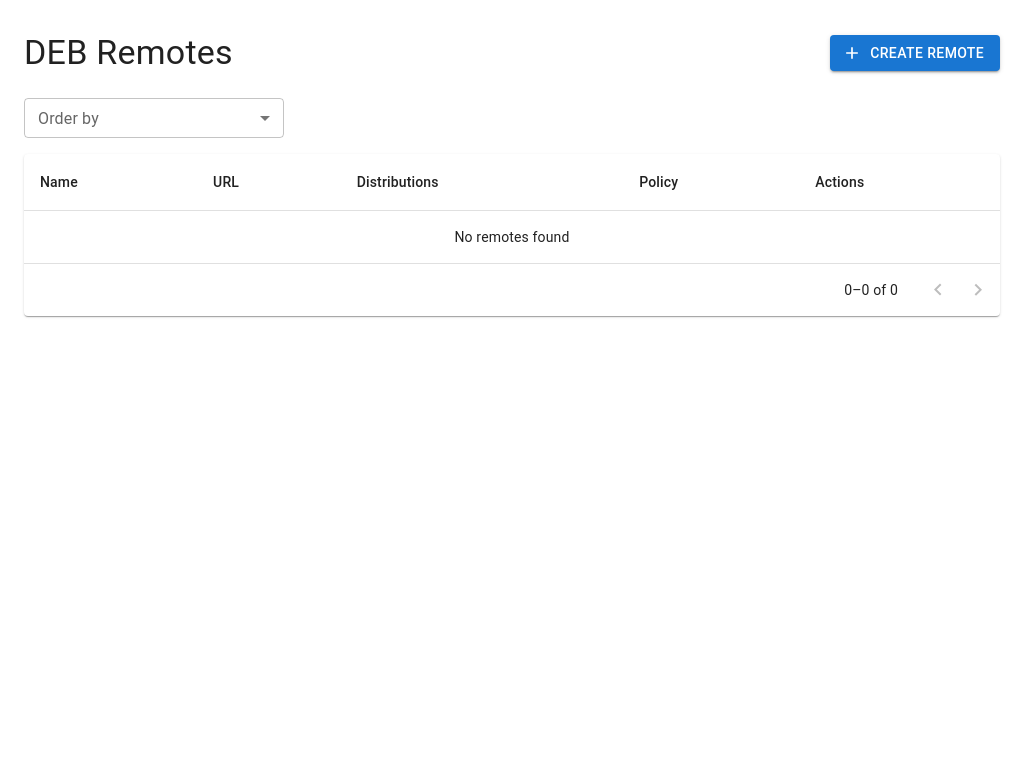
DEB plugin via generic components › requires the distributions field when creating a remote
Click the button "Create Remote".
click(915, 53)  # box left=830, top=35, right=1000, bottom=71
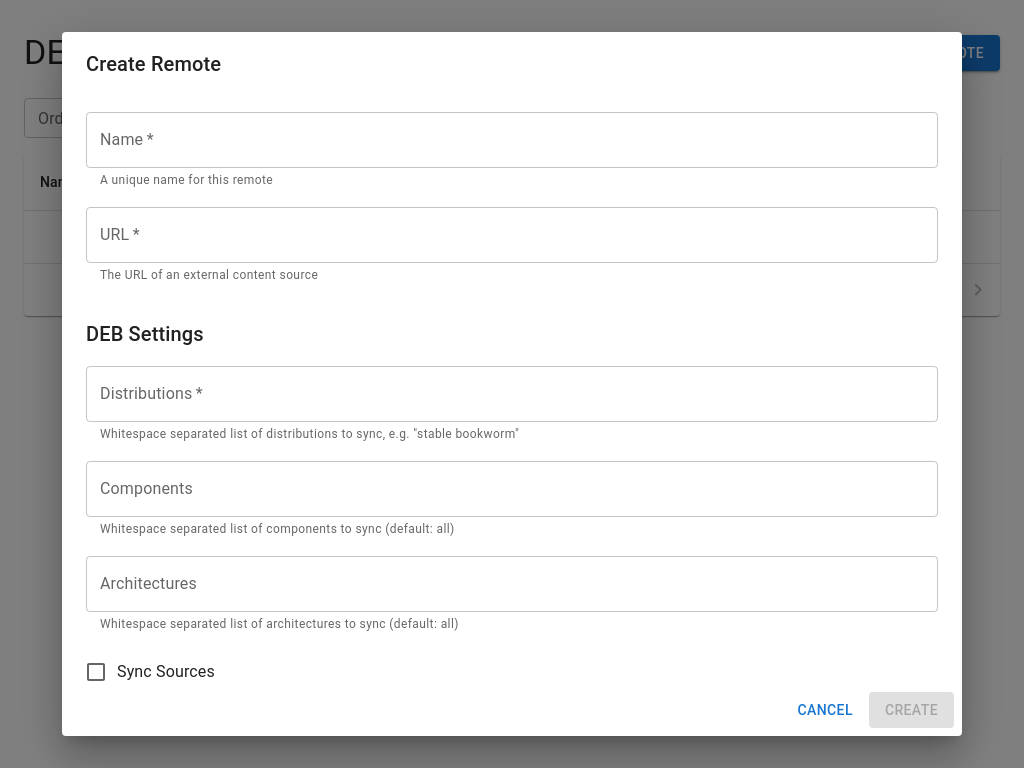
Type "deb-remote" into the field labelled "Name".
click(512, 140); type("deb-remote")  # box left=86, top=112, right=938, bottom=168
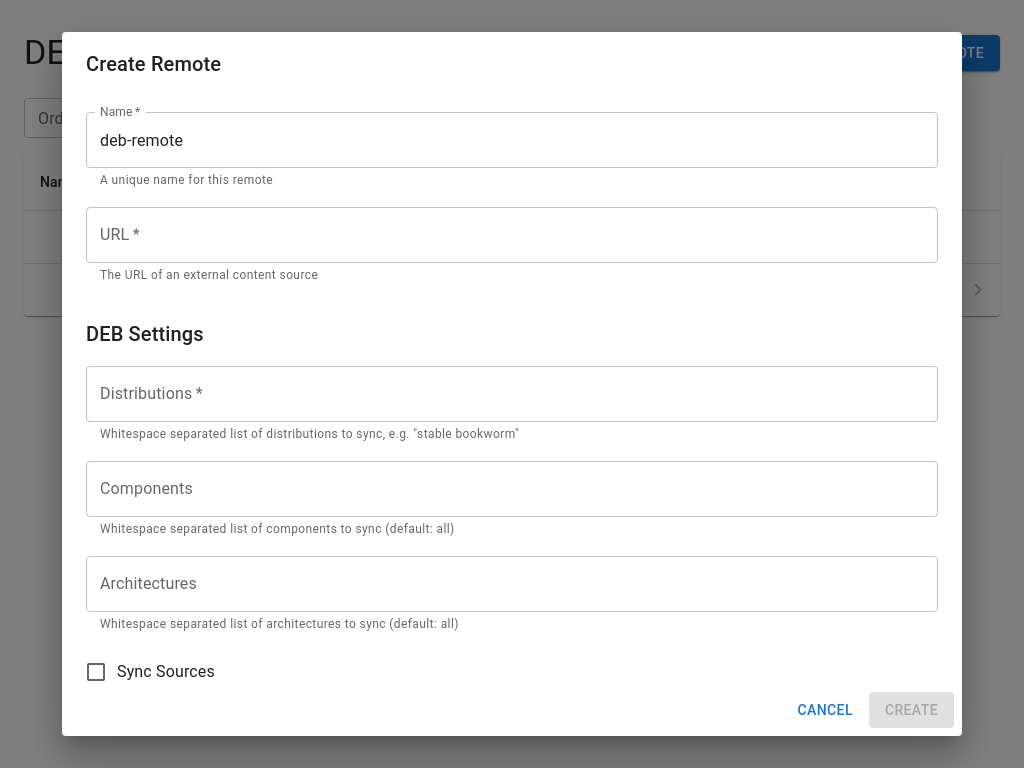
Type "https://deb.example.com/" into the field labelled "URL".
click(512, 235); type("https://deb.example.com/")  # box left=86, top=207, right=938, bottom=263
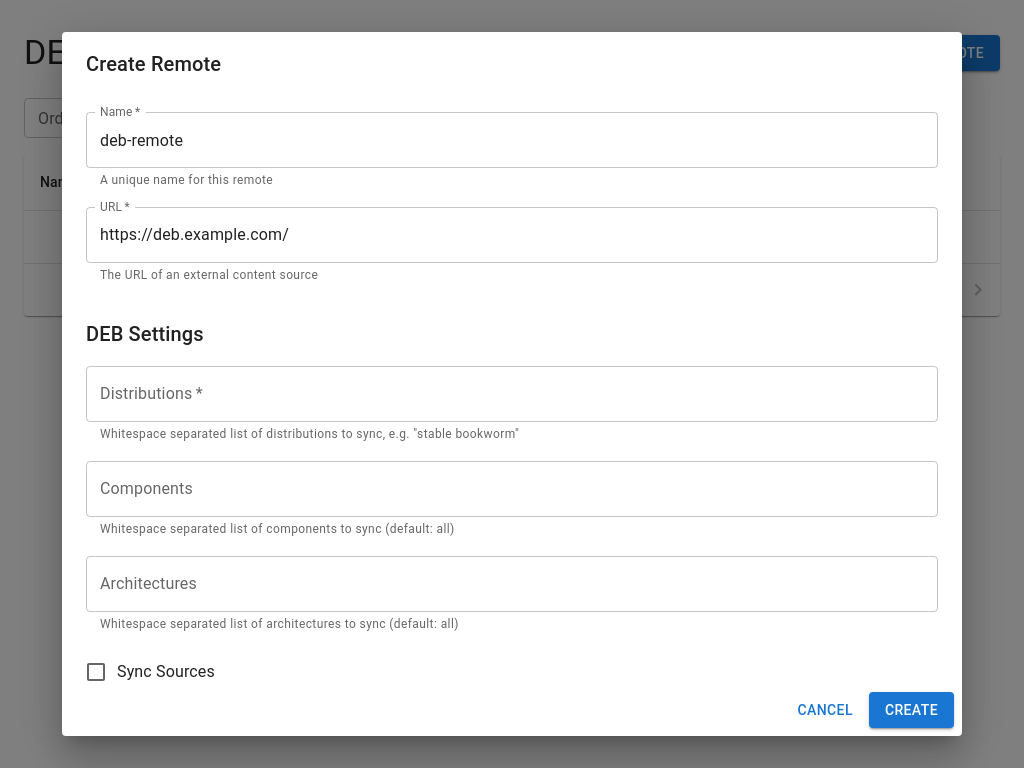
Click the button "Create".
click(911, 710)  # box left=869, top=692, right=954, bottom=728
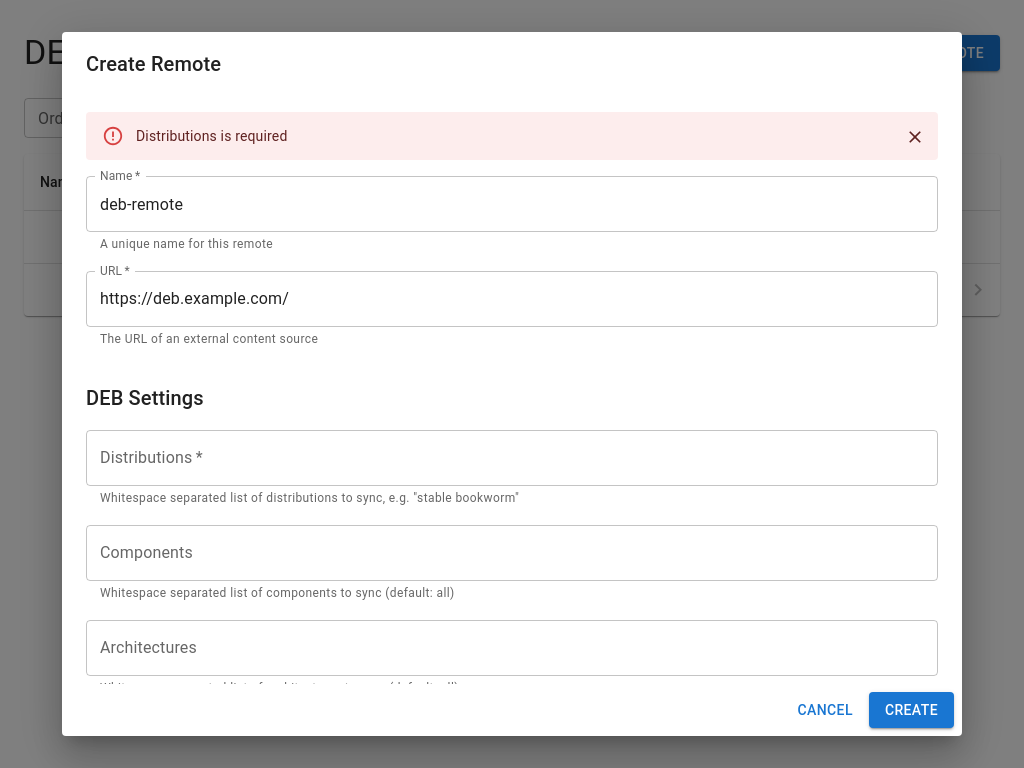
Expected: the text "Distributions is required" is shown, left=136, top=128, right=287, bottom=144
